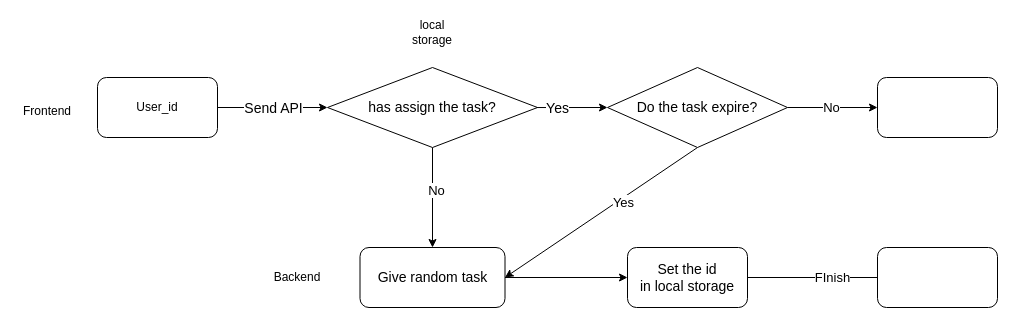
Some shapes in this 1015 by 325 pixel diagram are drawn without their labels. The shapes that lost their labels are listed below. From the top down, each one's box as (x1, y1, x2, y2) in pixels, then its label:
(876, 76, 998, 138): give the previous type of task
(876, 246, 998, 308): Delete From SQS
